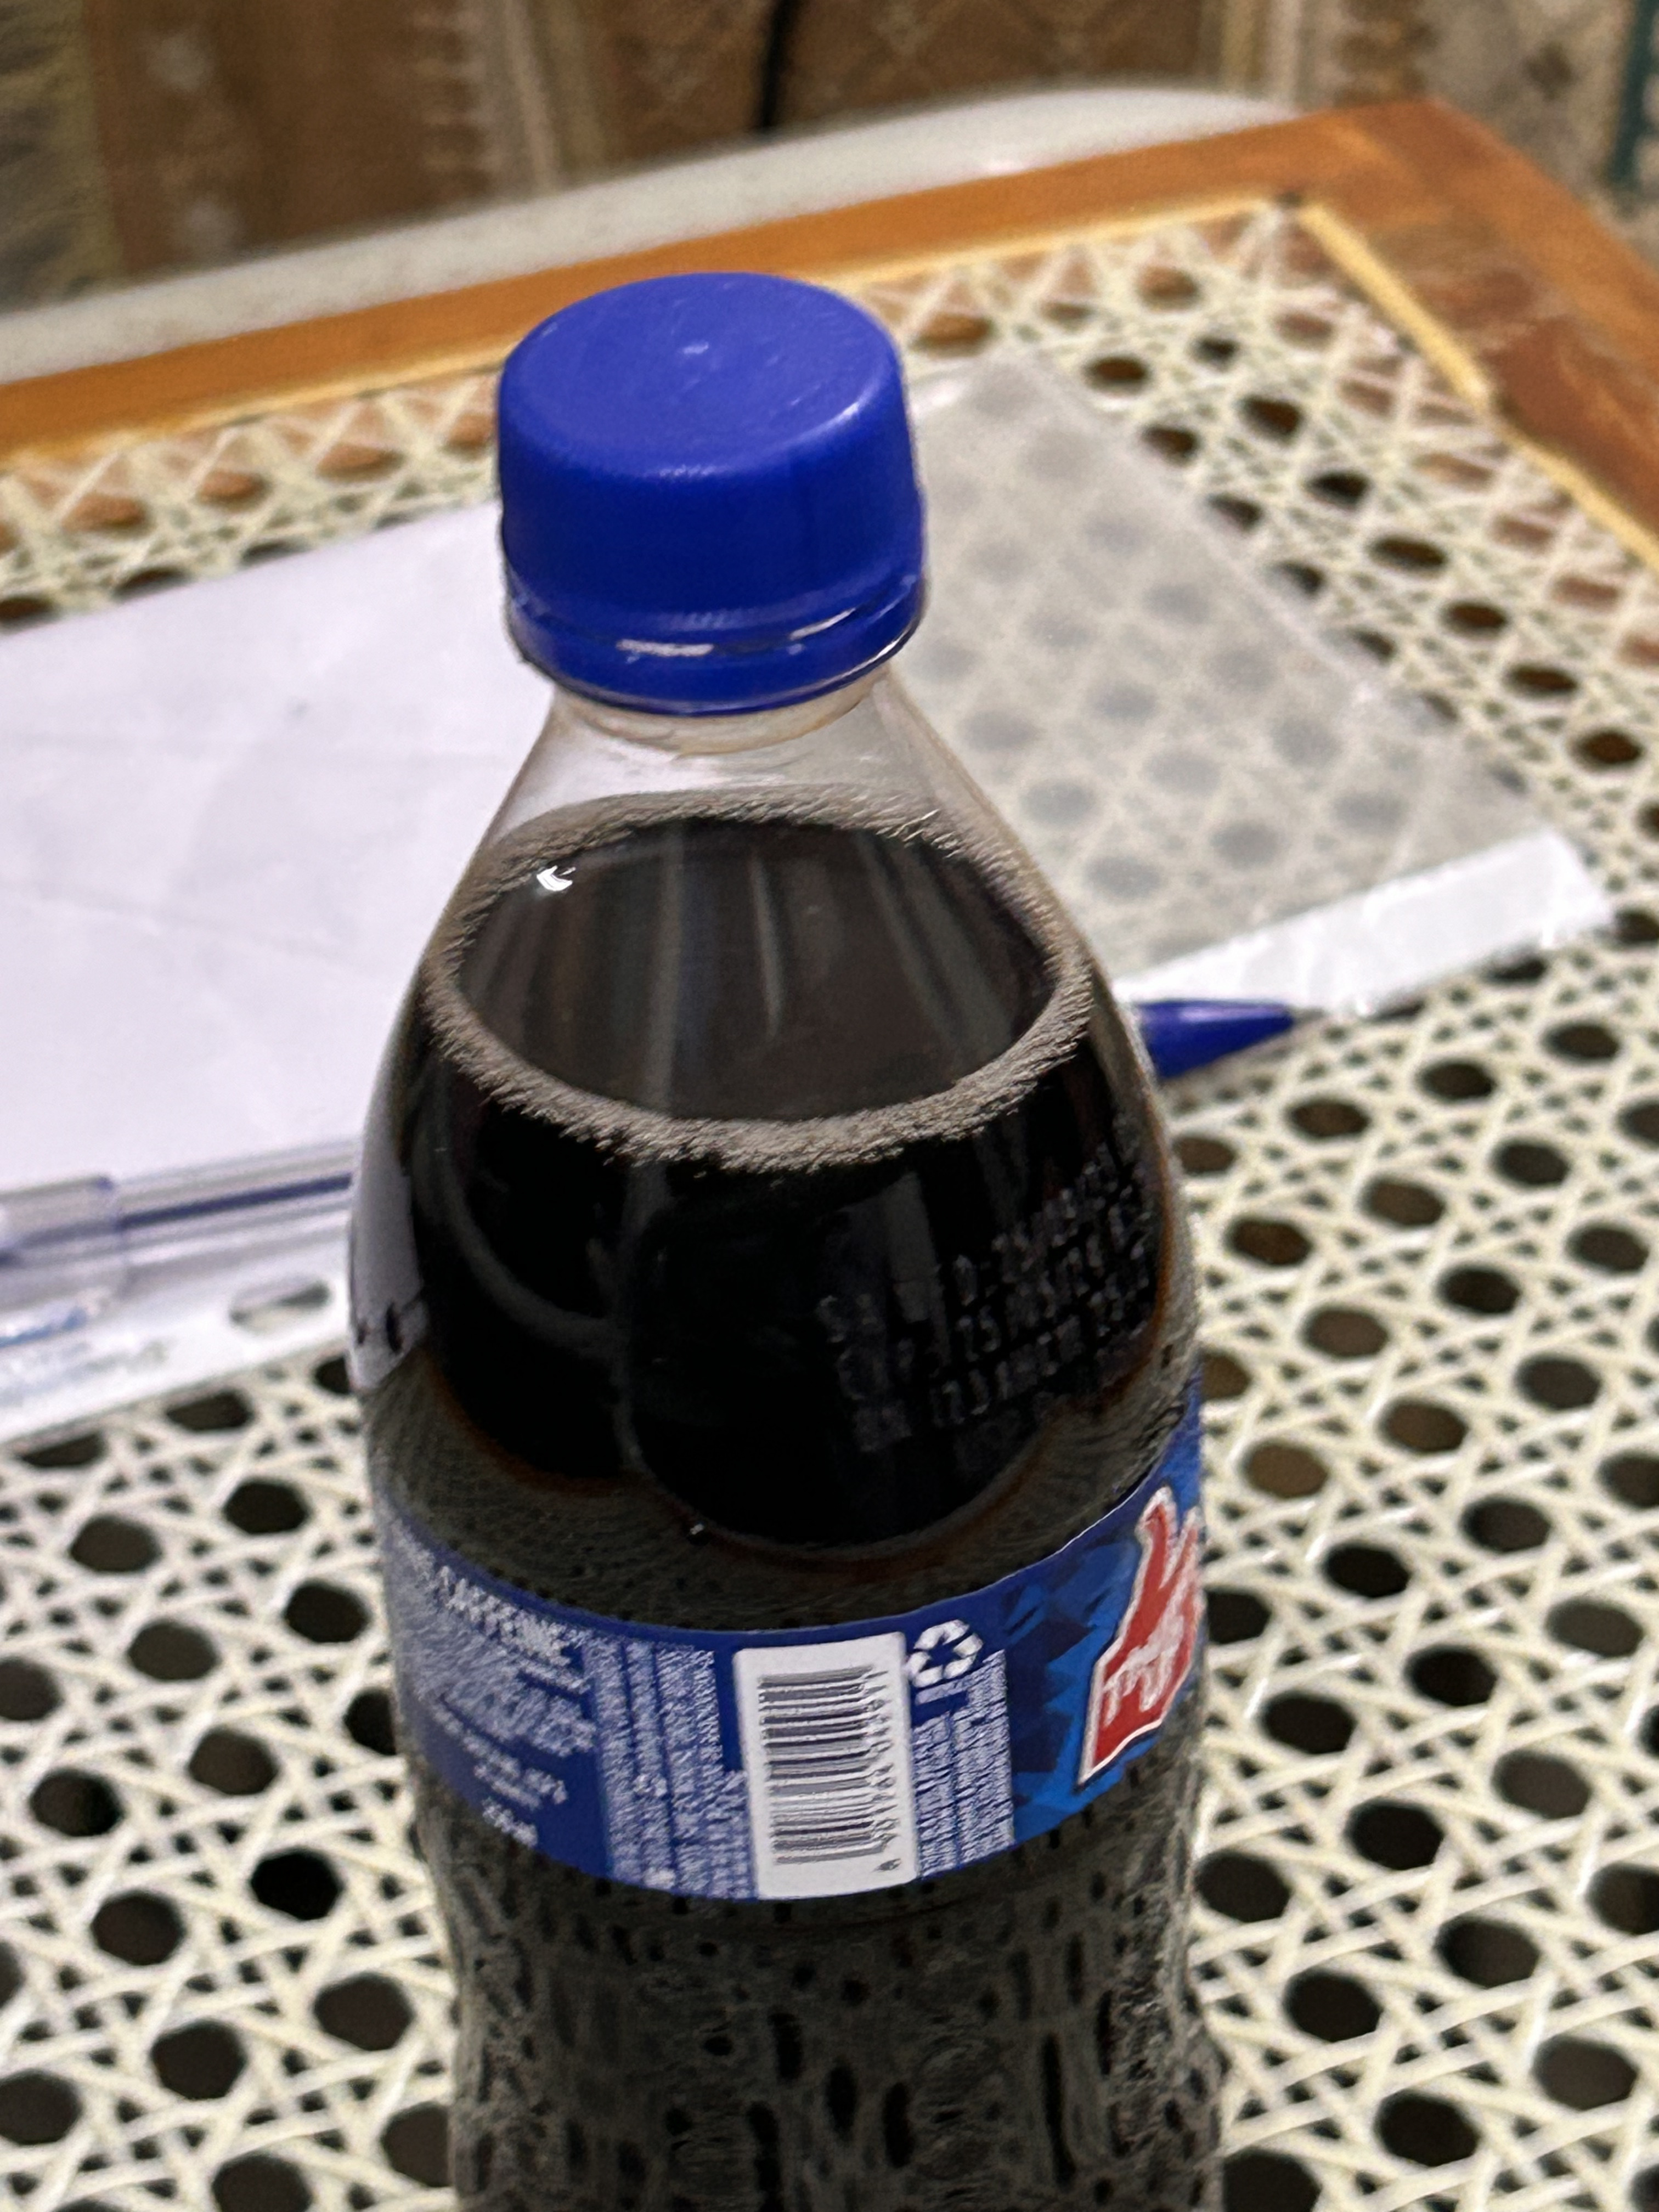unsealed: (486, 266, 943, 719)
